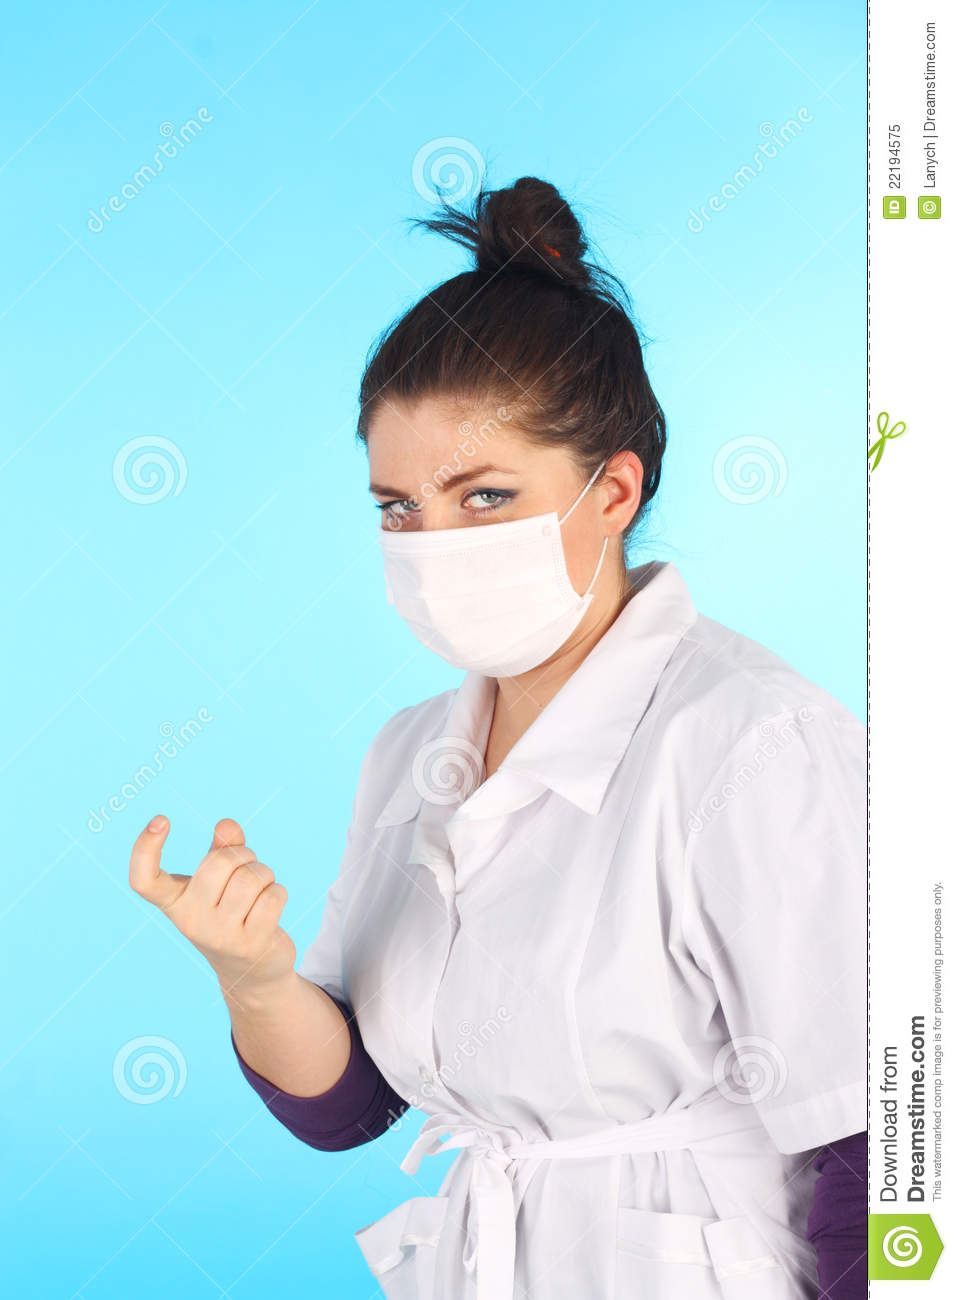mask: (382, 517, 594, 677)
